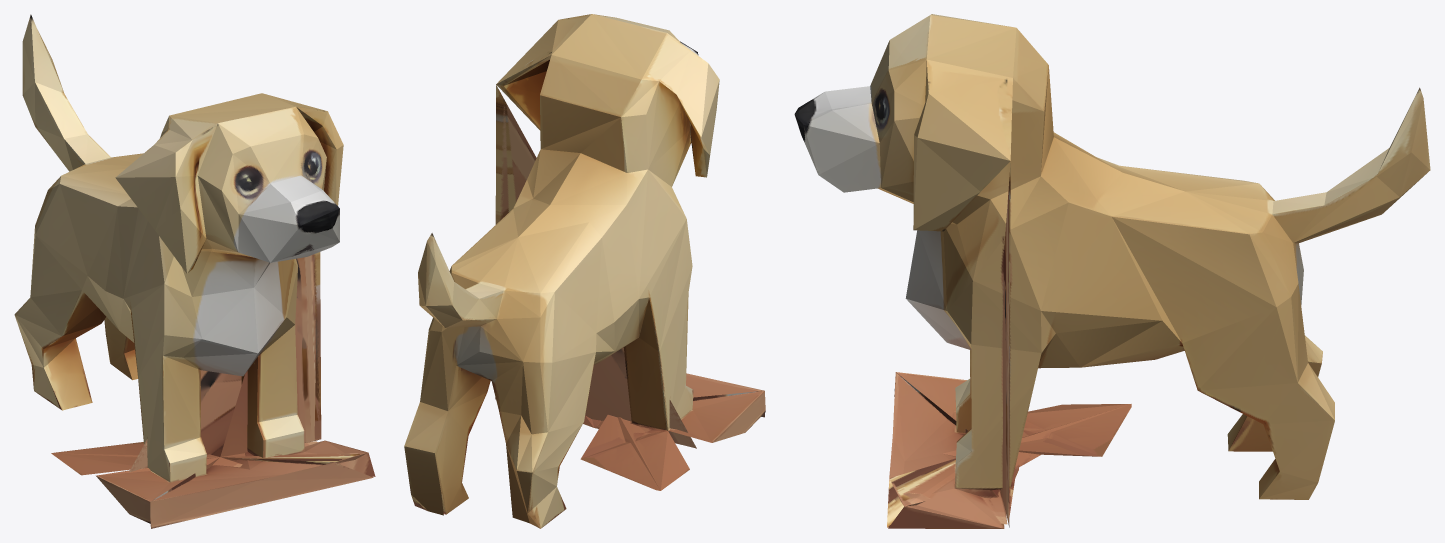
The picture shows the model from 3 angles, left to right: view 1: azimuth 30°, elevation 25°; view 2: azimuth 150°, elevation 25°; view 3: azimuth 270°, elevation 25°; orthographic projection. The views are drawn at different scales.
Visible parts, largest first — view 1: Figure; view 2: Figure; view 3: Figure.
Part boxes in pixels (left/top/right/bottom): Figure: left=14, top=14, right=375, bottom=528; Figure: left=404, top=14, right=765, bottom=528; Figure: left=794, top=14, right=1430, bottom=528.
Size of the model in its own units: 0.2697 by 0.4329 by 0.5733.
1 material, 1 textured.
